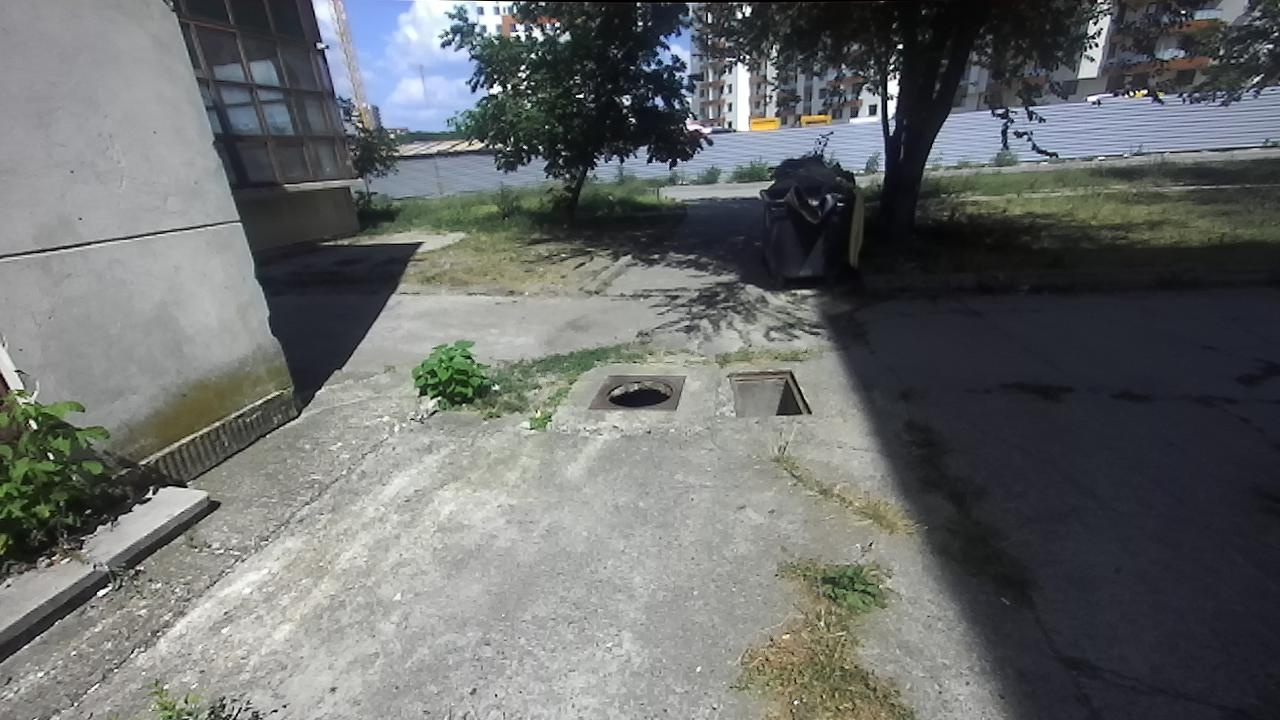drain: (722, 368, 815, 419), (600, 374, 677, 408)
